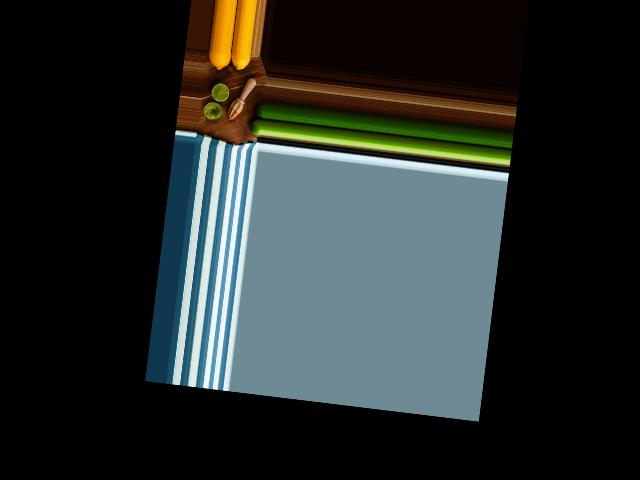lemon: (205, 50, 233, 74)
